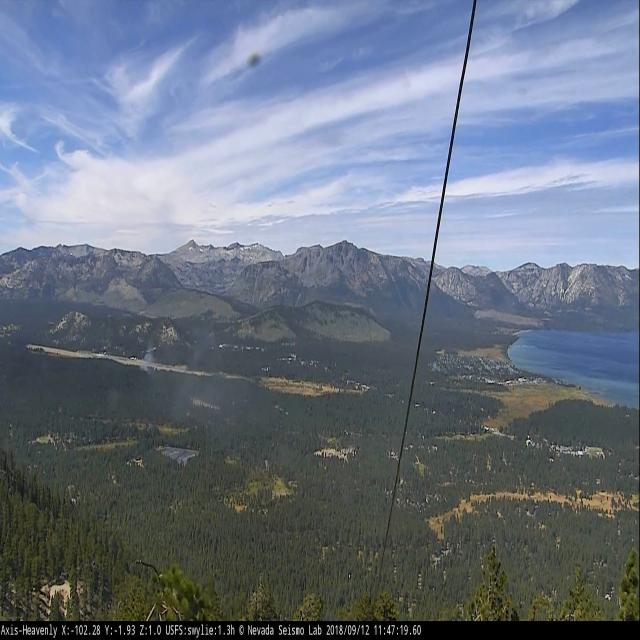smoke: (138, 350, 153, 374)
